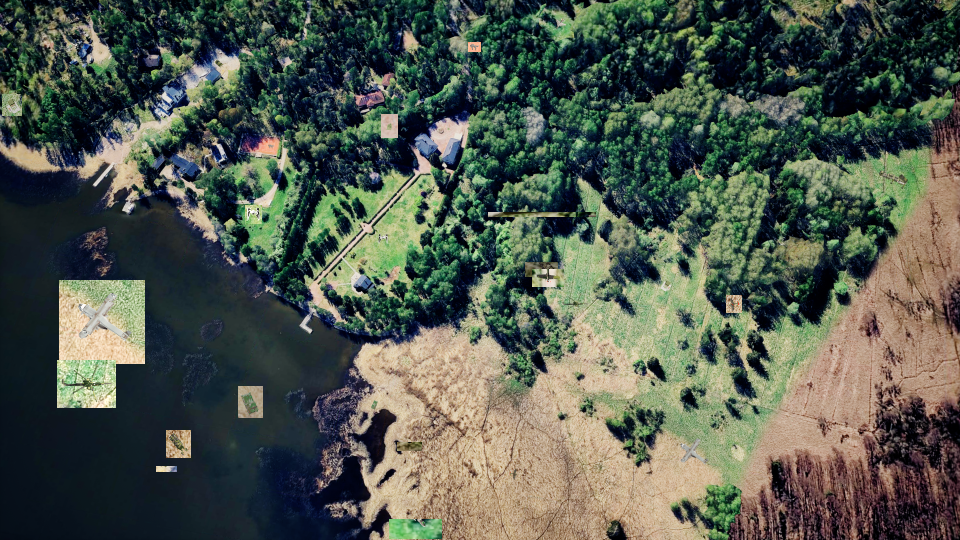condor: (59, 280, 145, 364)
hangar: (488, 212, 596, 217)
helicopter: (57, 360, 116, 408)
jammer: (238, 386, 263, 418)
jet_plane: (389, 519, 442, 539)
large_launcher: (60, 347, 112, 387)
large_tower: (525, 262, 558, 277)
medium_launcher: (397, 442, 422, 451)
medium_plane: (532, 269, 564, 287)
mine_roller: (166, 430, 191, 458)
small_launcher: (381, 114, 398, 138)
small_plane: (726, 295, 742, 313)
small_tower: (2, 94, 22, 116)
spacecraft: (245, 205, 262, 224)
ta-ta: (468, 42, 481, 52)
tank: (156, 466, 177, 472)
